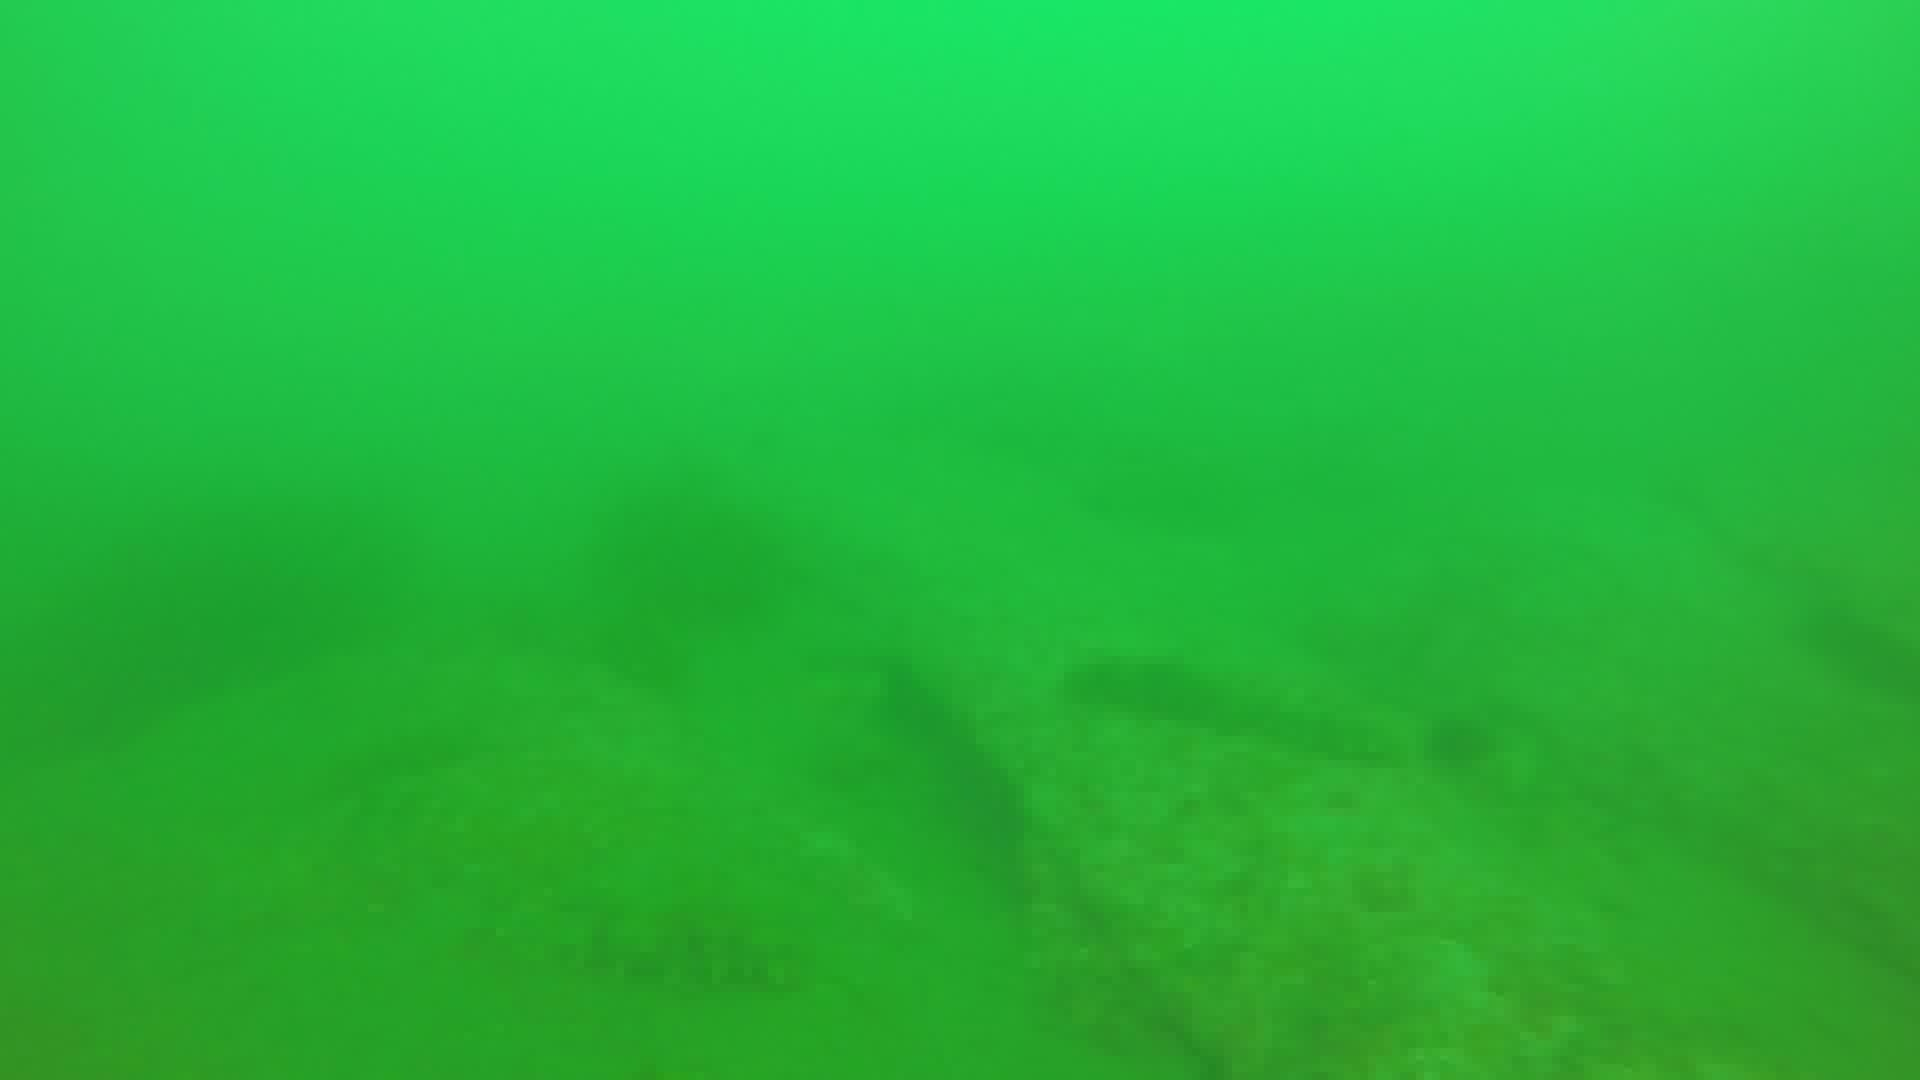echinus: (589, 469, 787, 633), (1420, 707, 1501, 774)
holothurian: (1068, 638, 1407, 767), (520, 894, 811, 998)
